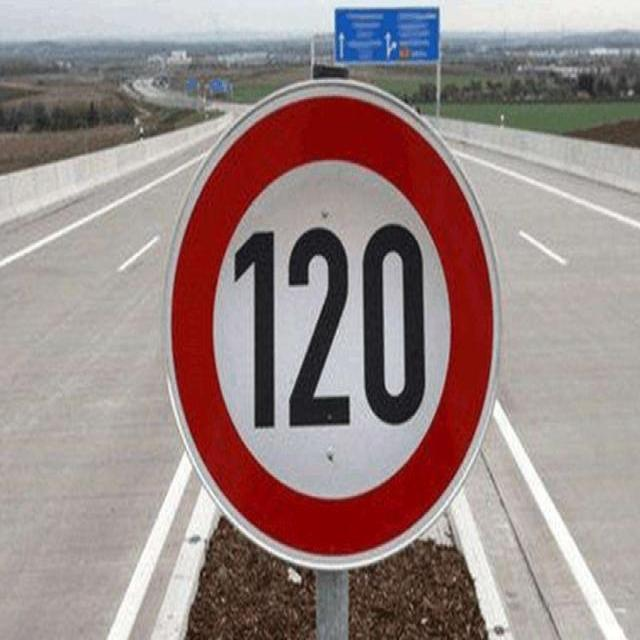speed limit 120: (164, 79, 501, 570)
